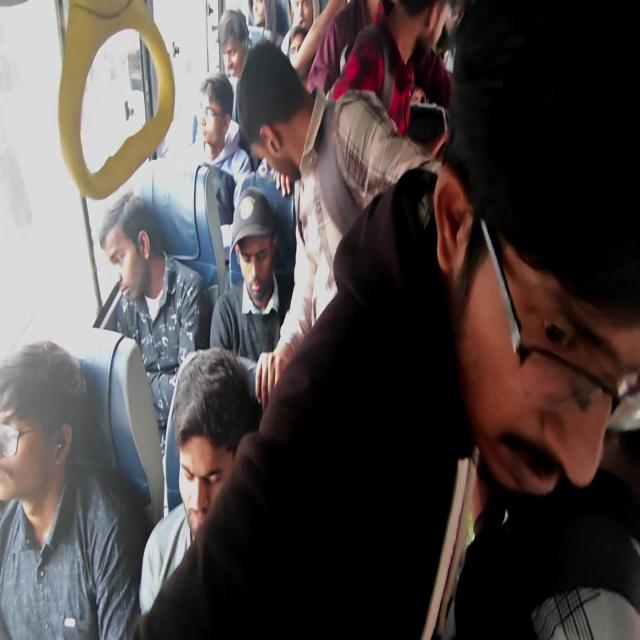person: (446, 21, 640, 500), (0, 376, 95, 562), (164, 361, 250, 536), (92, 202, 176, 318), (236, 62, 308, 188), (212, 204, 280, 296), (195, 82, 238, 157), (398, 5, 444, 57), (222, 5, 248, 71), (287, 38, 322, 83), (293, 4, 320, 44), (254, 0, 270, 34)
